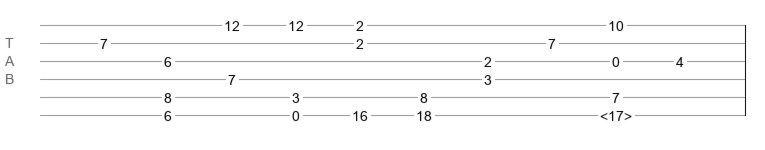0: (292, 108, 300, 118), (612, 54, 620, 64)
10: (608, 18, 624, 28)
12: (224, 18, 240, 28), (288, 18, 304, 28)
16: (352, 108, 368, 118)
18: (416, 108, 432, 118)
2: (356, 36, 364, 46), (356, 18, 364, 28), (484, 54, 492, 64)
3: (292, 90, 300, 100), (484, 72, 492, 82)
4: (676, 54, 684, 64)
6: (164, 54, 172, 64), (164, 108, 172, 118)
7: (100, 36, 108, 46), (228, 72, 236, 82), (548, 36, 556, 46), (612, 90, 620, 100)
8: (164, 90, 172, 100), (420, 90, 428, 100)
harmonic: (600, 108, 632, 118)
